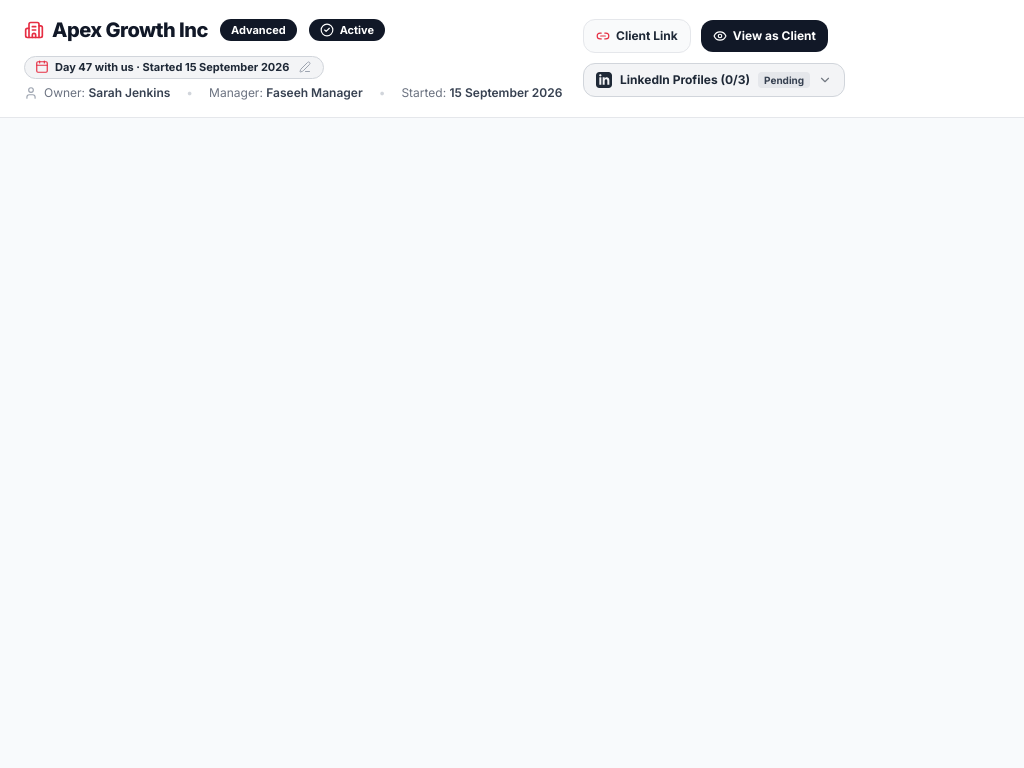
it: Days Since Onboarding Counter Suite › 3. UI Rendering & Quick Edit in Workspace & Portal › 3.2 allows Owner to open quick start date correction dialog from header
Click the button with test id "edit-start-date-btn" at (305, 67), box [297, 59, 313, 75]
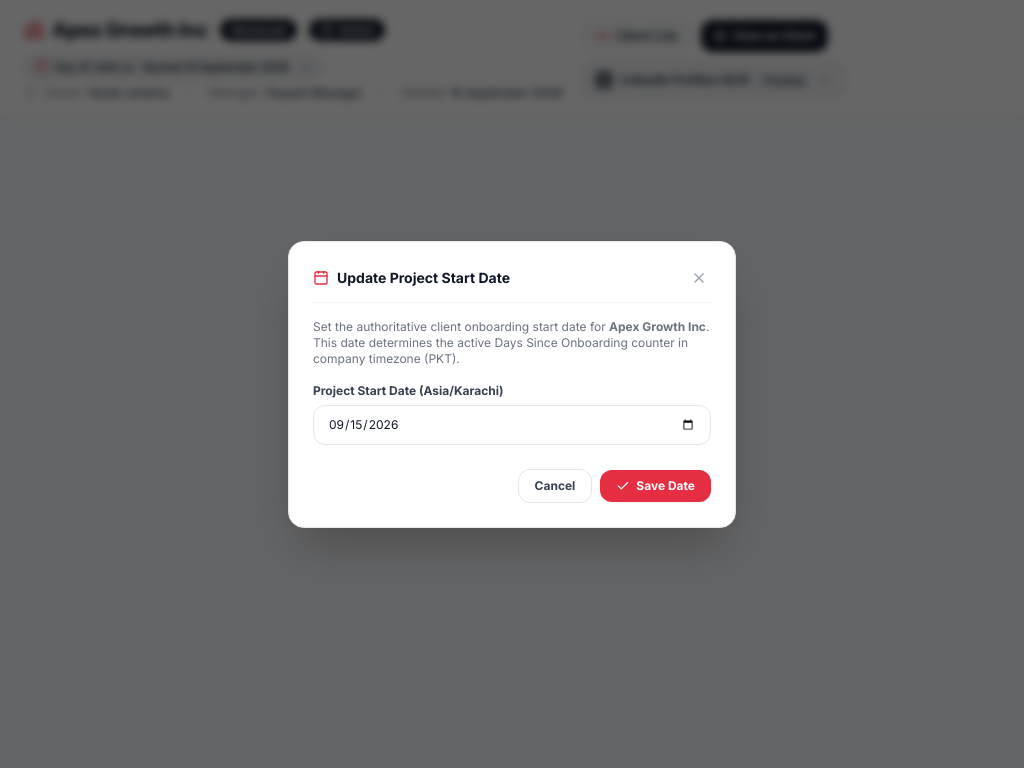
Now the heading "Update Project Start Date" is shown, box [337, 268, 510, 288]
Now the date field with test id "quick-start-date-input" is shown, box [313, 404, 711, 444]
